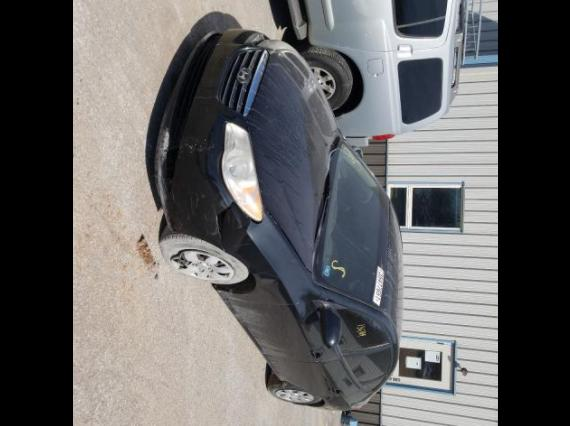Broken part: (212, 198, 254, 254), (170, 250, 232, 281)
Dent: (216, 203, 258, 264), (252, 274, 276, 287)
Missing part: (196, 48, 230, 97)
Paint chip: (154, 124, 169, 225), (209, 214, 219, 238)
Scratch: (165, 186, 209, 239), (177, 129, 214, 164)
